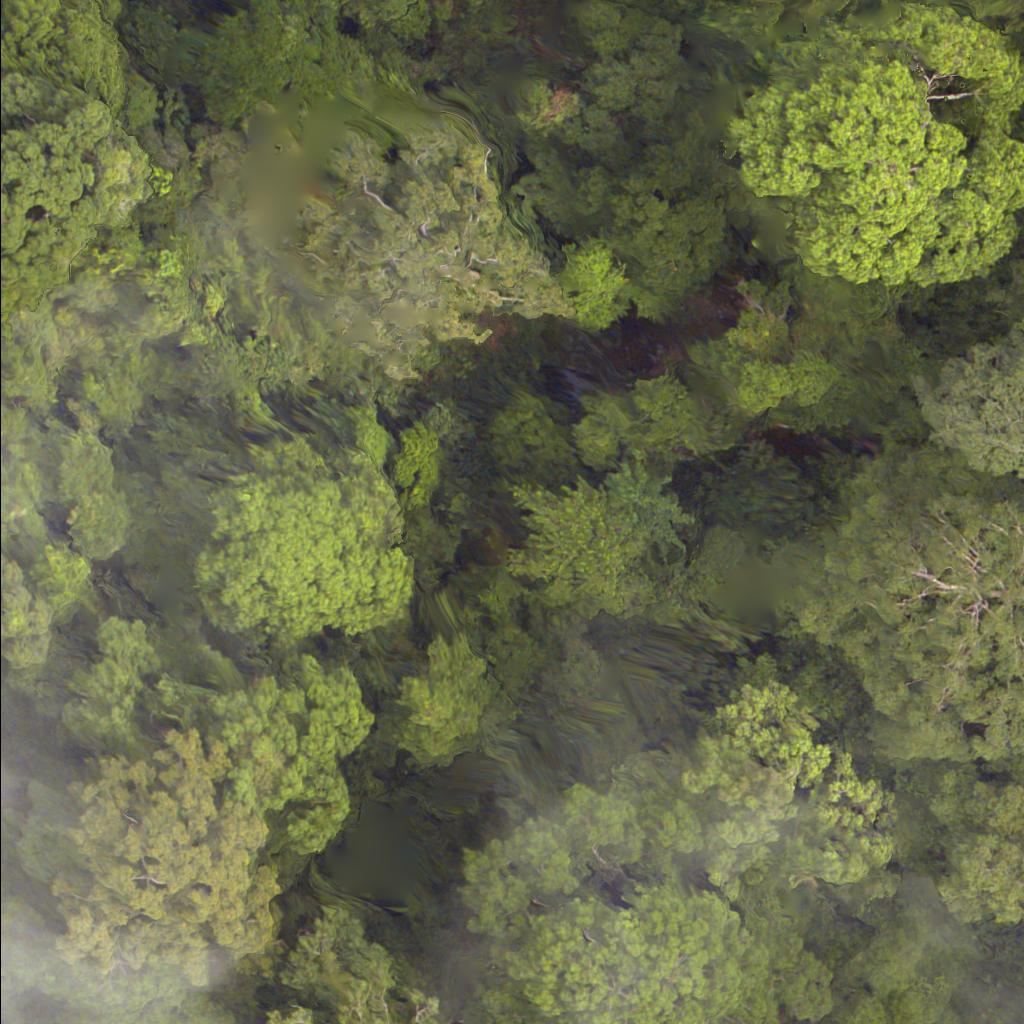crown: (446, 672, 937, 1023), (154, 95, 531, 438), (728, 2, 1023, 285), (0, 744, 284, 998), (817, 448, 1023, 762), (195, 428, 446, 658), (0, 71, 147, 350), (991, 269, 1023, 346)
